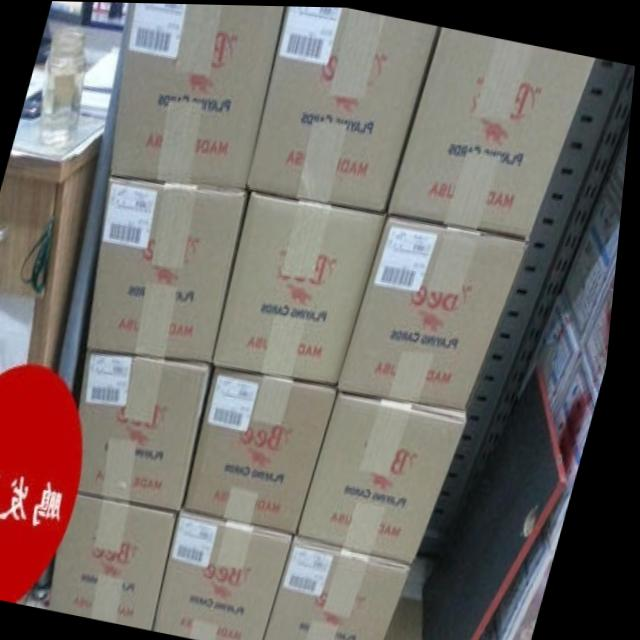box: (391, 24, 595, 236), (249, 5, 439, 208), (344, 215, 532, 410), (219, 189, 389, 384), (112, 2, 284, 189), (94, 176, 252, 363), (307, 391, 475, 563), (192, 367, 344, 535), (85, 352, 219, 511), (165, 512, 301, 640), (61, 492, 188, 627), (277, 538, 421, 640)
